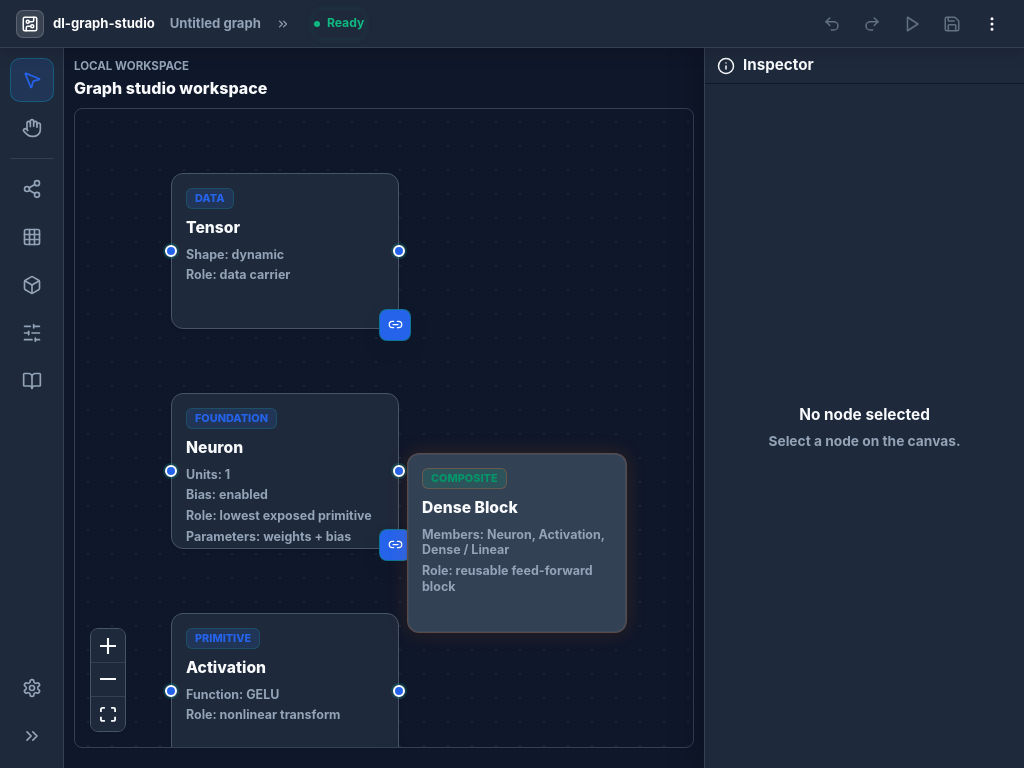
Scenario: App shell › selects a primitive node and shows editable inspector details
This screenshot has width=1024, height=768.
Click the button with aria-label "neuron primitive node".
click(285, 471)  # box [171, 393, 399, 549]
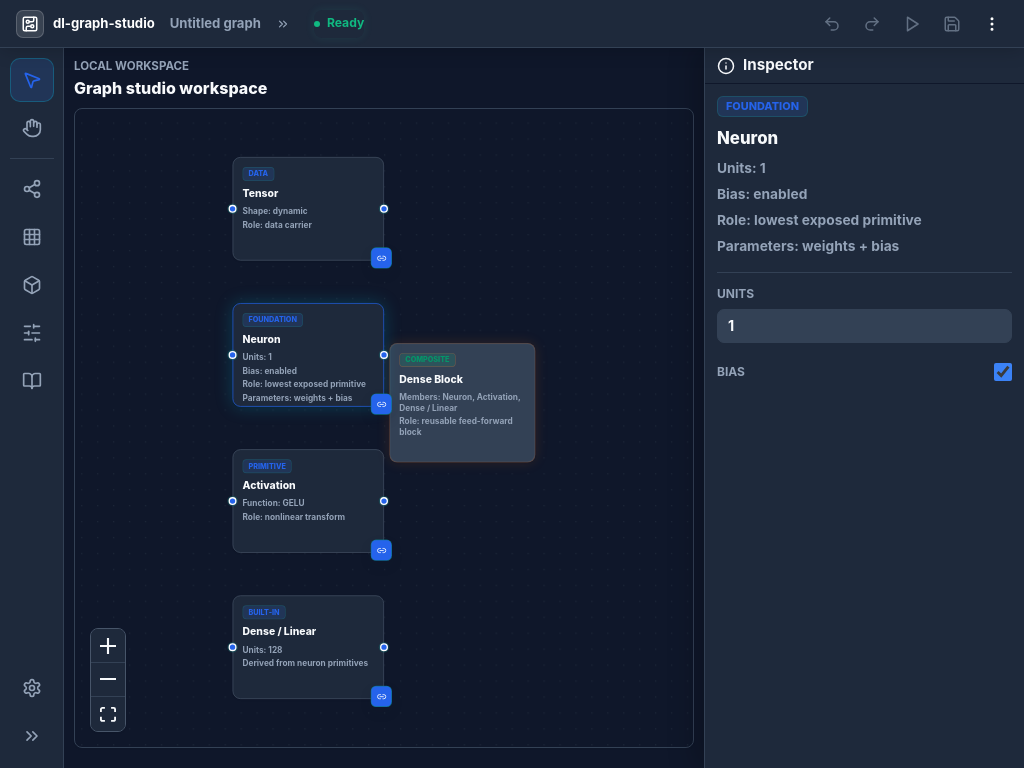
Check: the heading "Neuron" below "Inspector" is shown, box [717, 128, 778, 148]
Check: the text "Foundation" below "Inspector" is shown, box [726, 99, 799, 113]
Check: the list item "Role: lowest exposed primitive" below "Inspector" is shown, box [717, 212, 922, 228]
